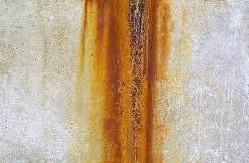Corrosion: (71, 1, 175, 163)
